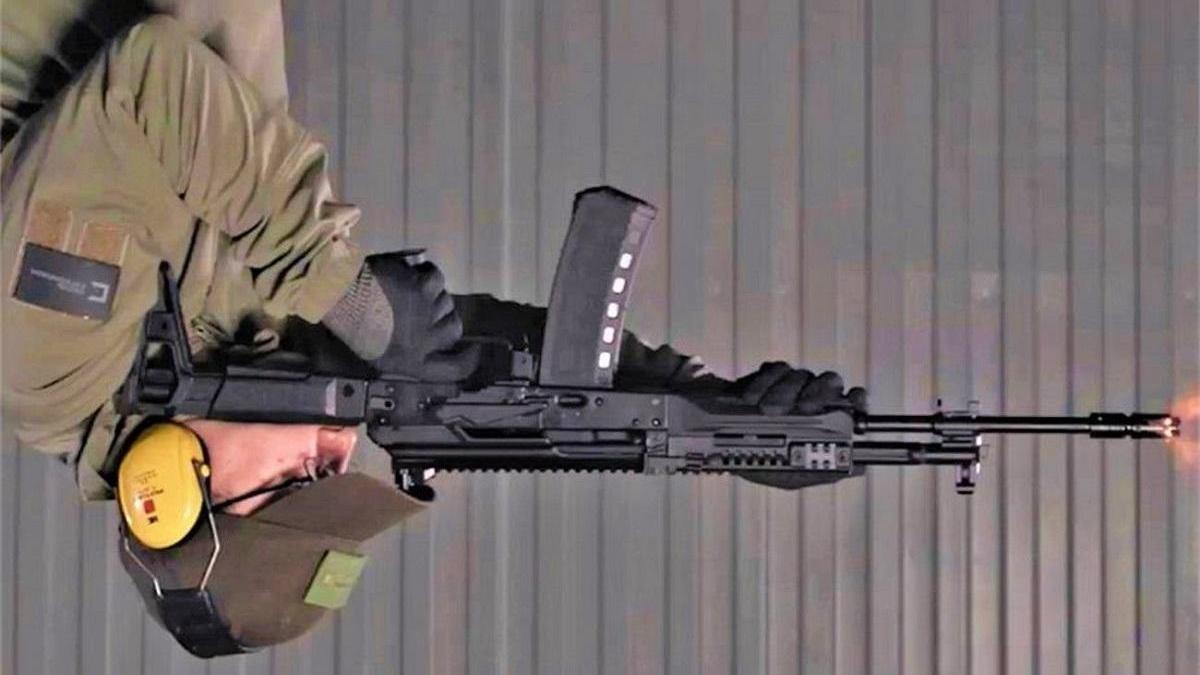larga: (114, 186, 1181, 507)
